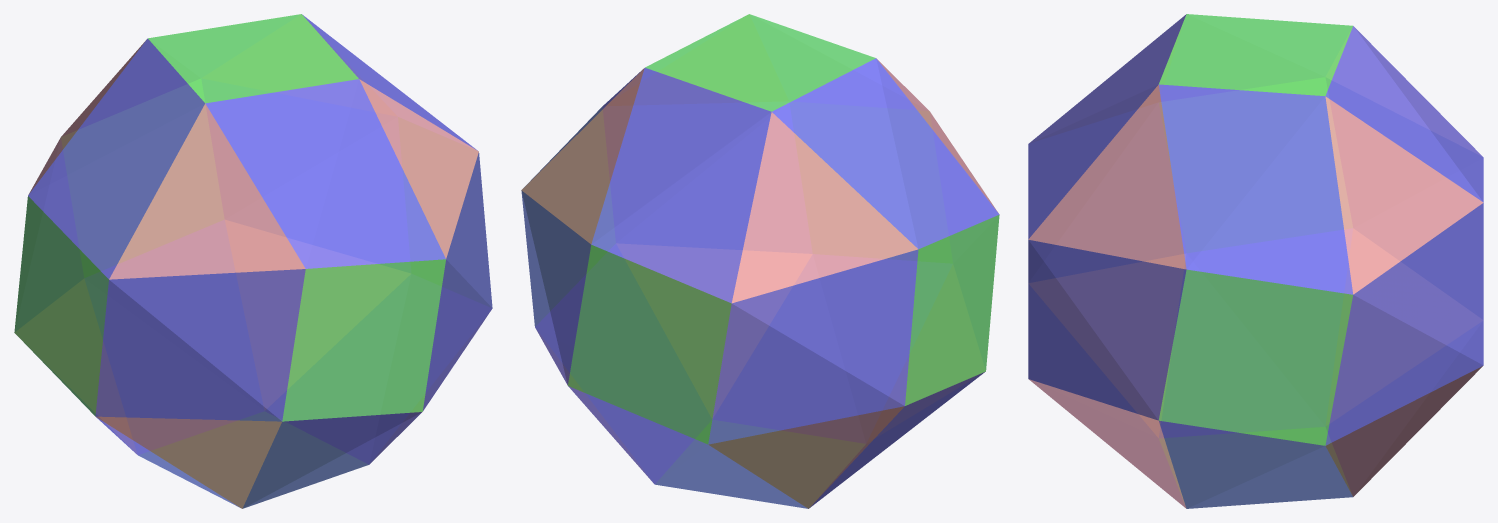
Rendered from BiscribedSnubCube.obj.
3 views of the same model, side by side, from view 1: azimuth 30°, elevation 25°; view 2: azimuth 150°, elevation 25°; view 3: azimuth 270°, elevation 25° (orthographic). The views are drawn at different scales.
Size of the model in its own units: 2 by 2 by 2.
